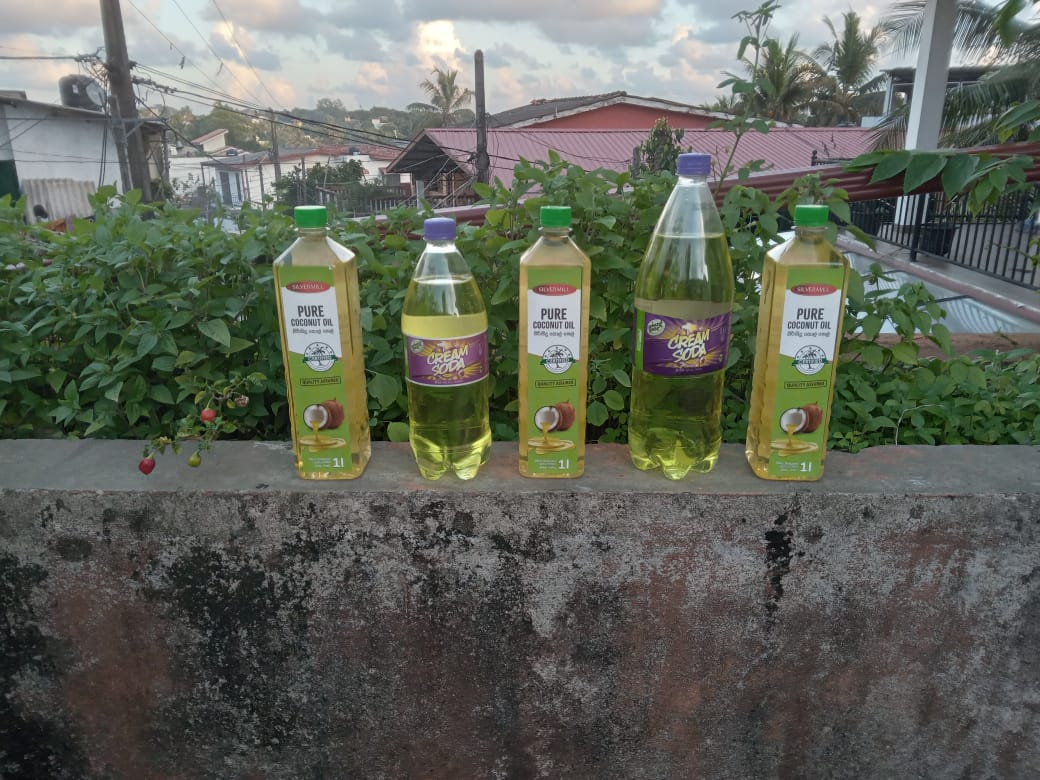L: (627, 153, 741, 481)
M: (402, 217, 495, 483)
